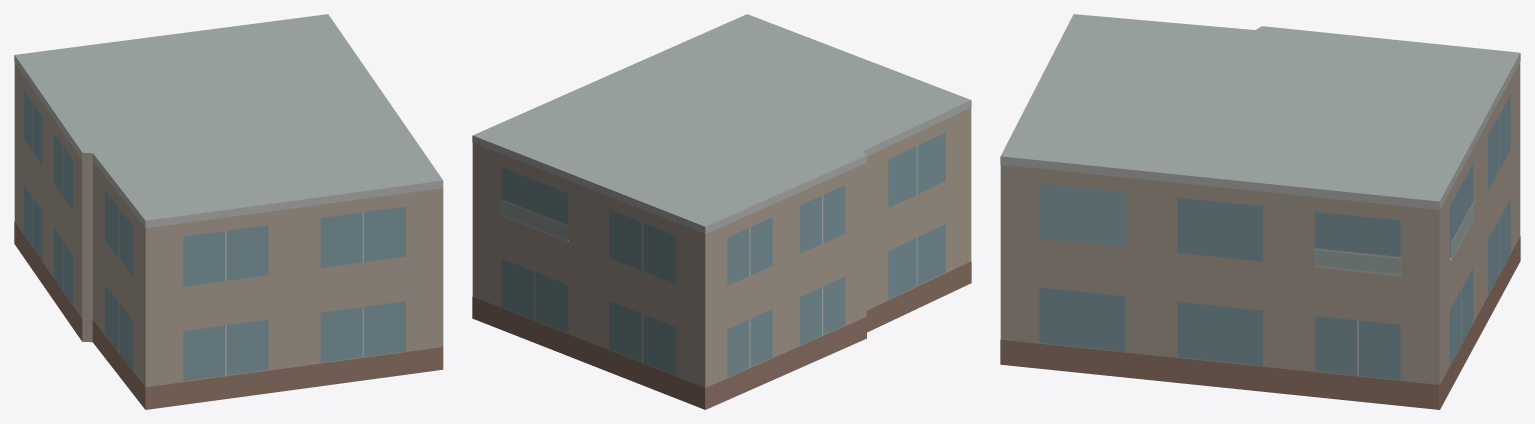
The model's file is survey-upis-33027110.glb.
3 renders of one model, left to right at view 1: azimuth 30°, elevation 25°; view 2: azimuth 150°, elevation 25°; view 3: azimuth 270°, elevation 25°, orthographic. The views are drawn at different scales.
Parts seen in each view (by area): view 1: survey-upis-33027110.tmp; view 2: survey-upis-33027110.tmp; view 3: survey-upis-33027110.tmp.
Boxes of the visible parts, left/top/right/bottom form: survey-upis-33027110.tmp: left=14, top=14, right=443, bottom=409; survey-upis-33027110.tmp: left=472, top=14, right=971, bottom=409; survey-upis-33027110.tmp: left=1000, top=14, right=1520, bottom=409.
Size of the model in its own units: 11.79 by 6.1 by 13.81.
